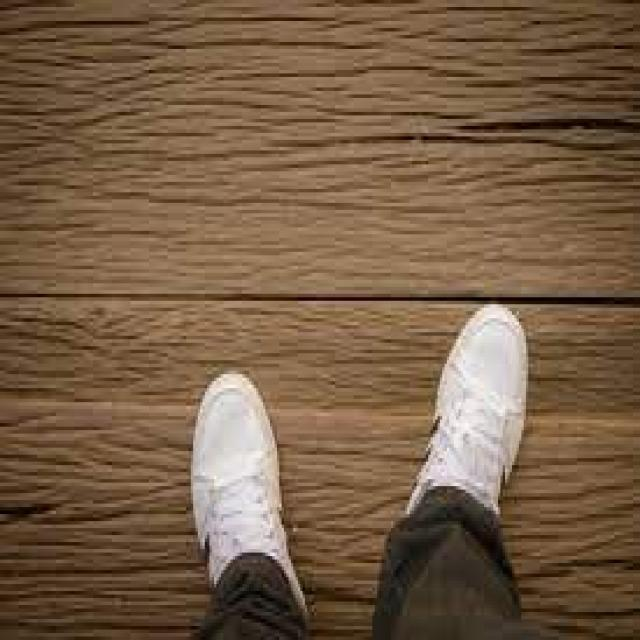shoes: (378, 270, 538, 607), (160, 345, 327, 638)
